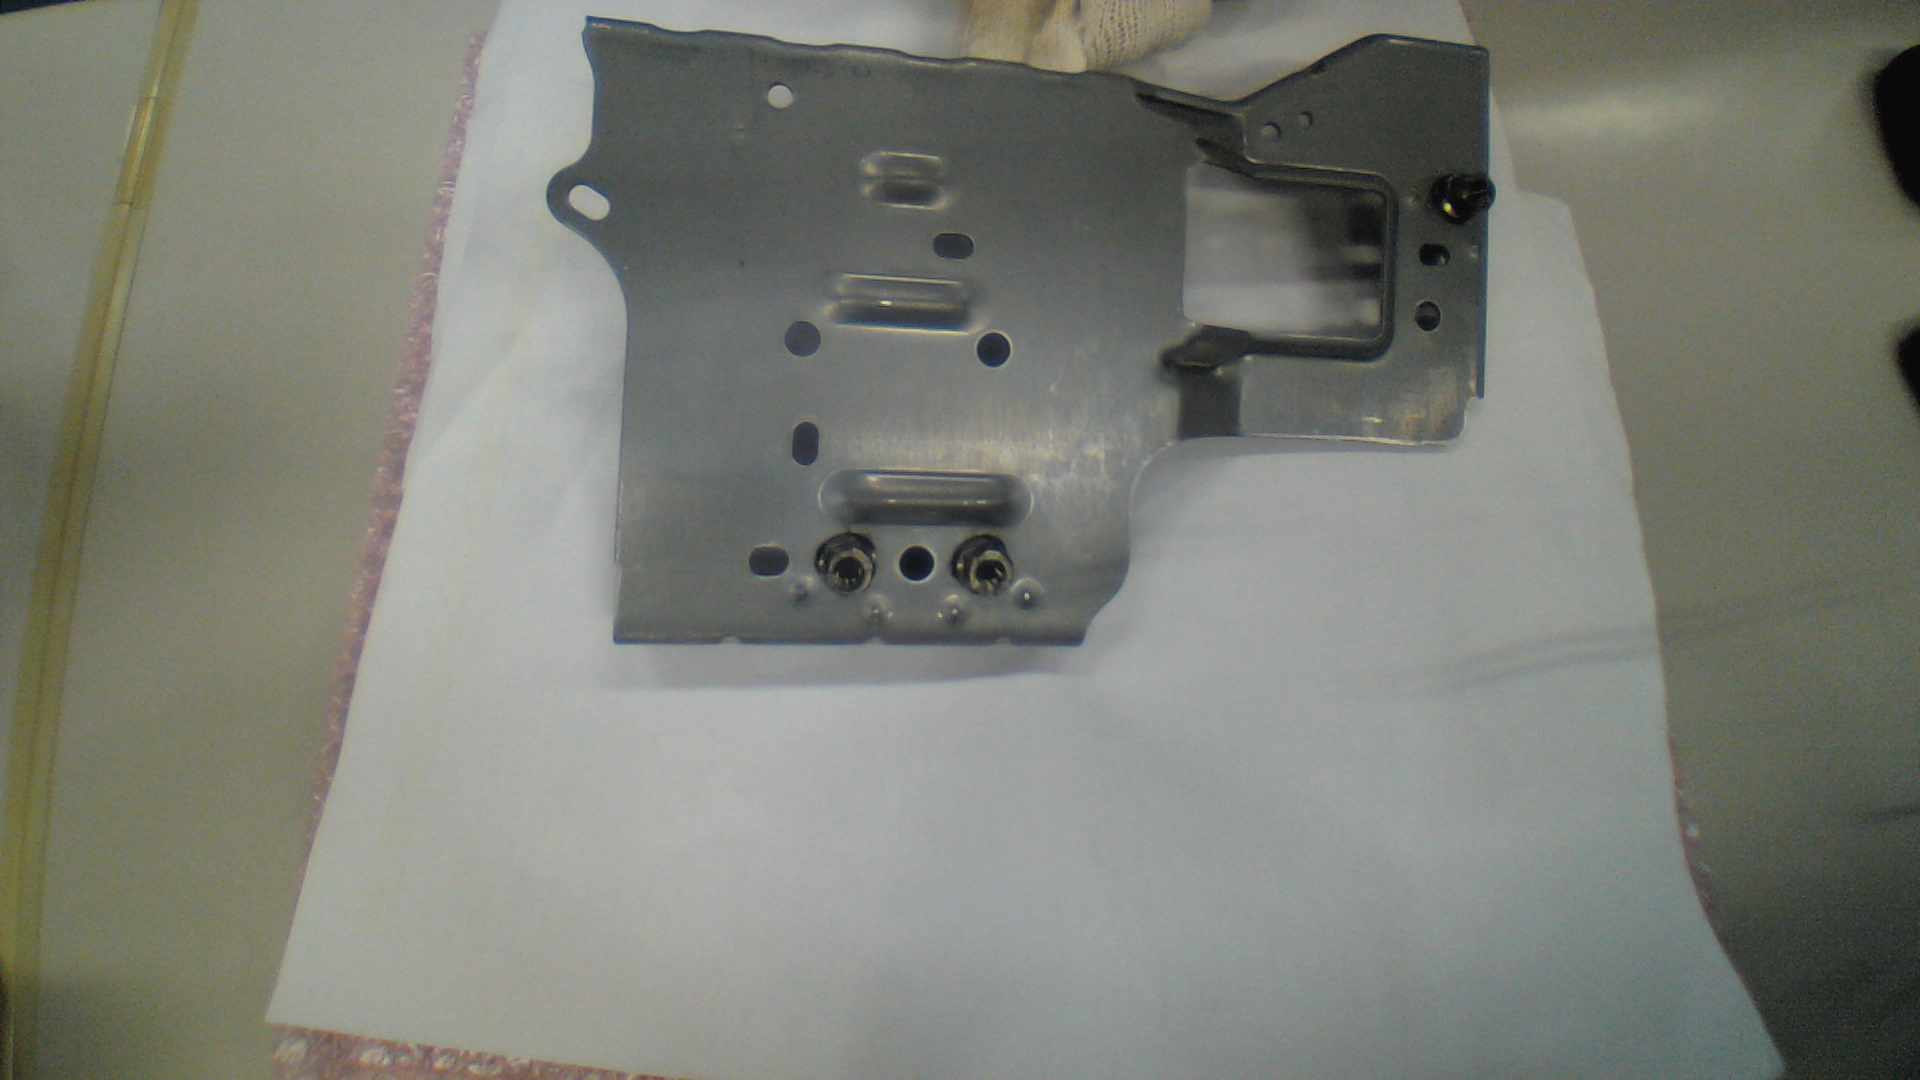dog: (1429, 166, 1495, 225), (953, 531, 1013, 596), (816, 531, 876, 593)
